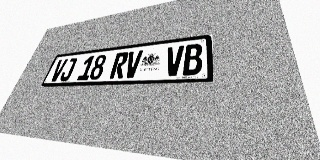1: (77, 55, 96, 80)
8: (88, 54, 108, 80)
B: (183, 43, 203, 75)
J: (58, 58, 78, 81)
R: (109, 52, 129, 79)
V: (164, 45, 184, 76), (123, 50, 143, 78), (49, 59, 68, 82)
